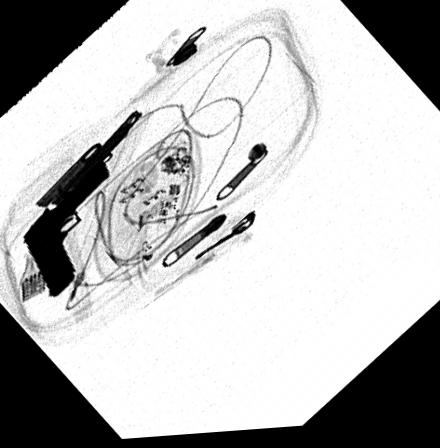Gun: (14, 156, 111, 302)
